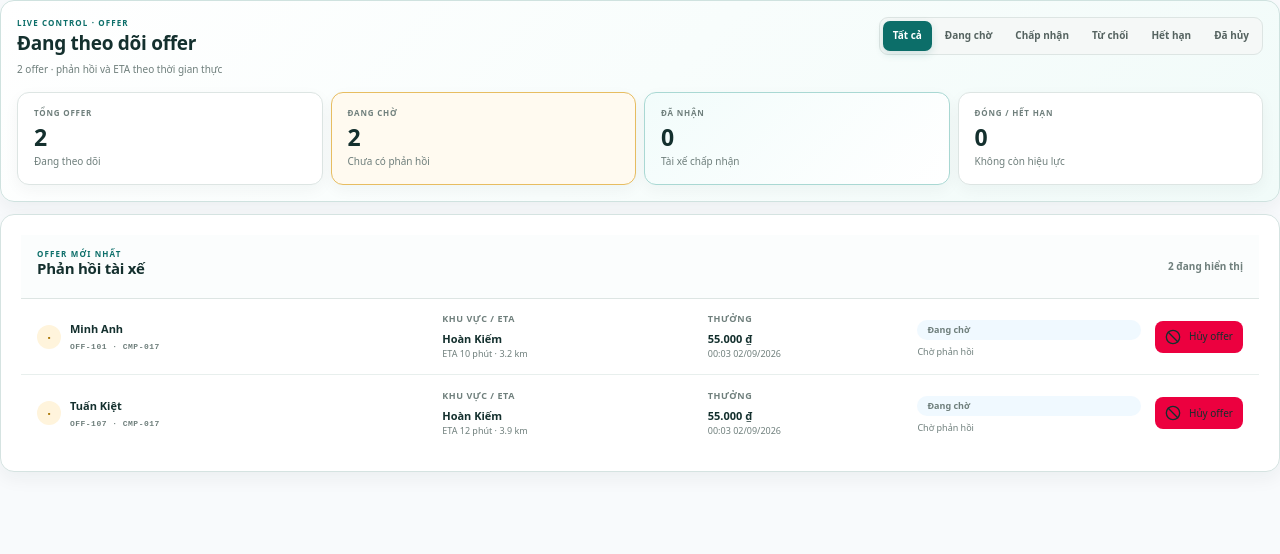
Test: OfferTracking › shows an explicit empty state when a status filter has no matching offers
Click the button "Từ chối" at (1110, 36), box [1082,21,1138,51]
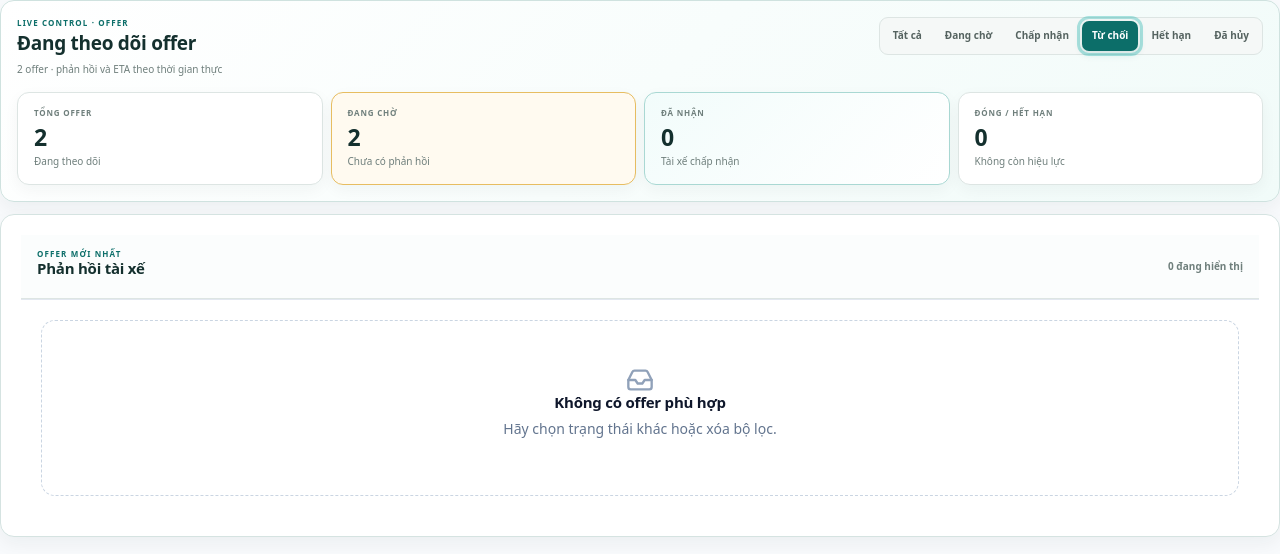
Now the heading "Không có offer phù hợp" is shown, box [554,392,726,412]
